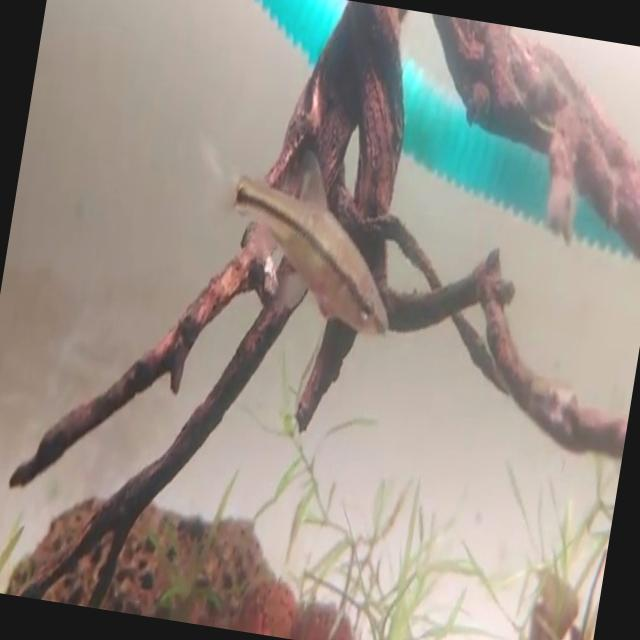Cakil Baligi: (177, 120, 416, 344)
